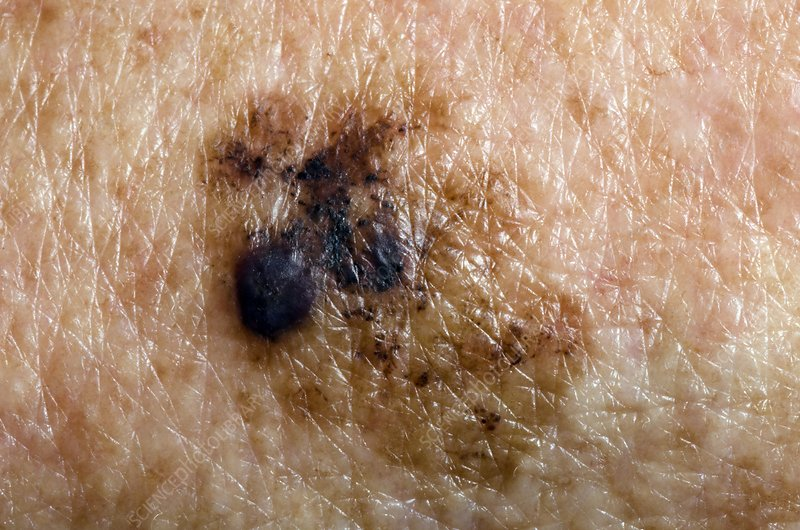melanoma: (113, 41, 558, 463)
